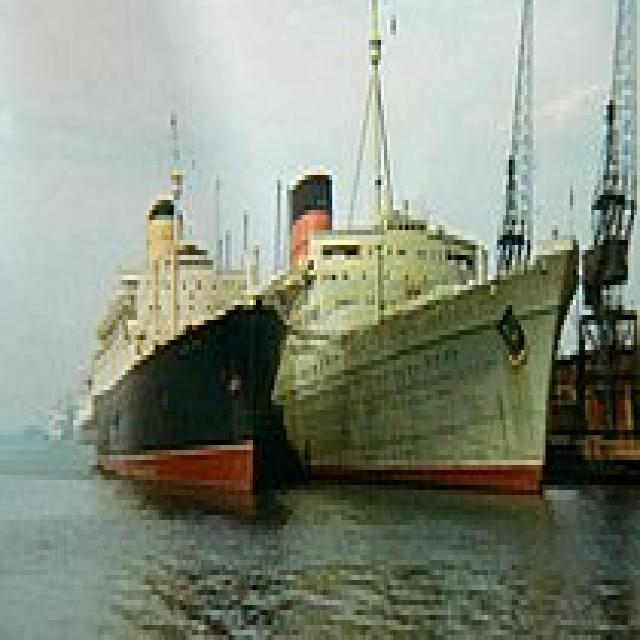Cruise: (262, 165, 579, 495), (82, 190, 284, 500)
